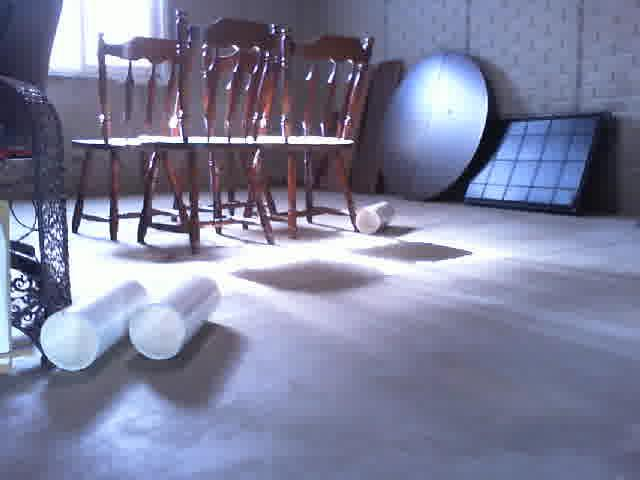coral: (38, 274, 149, 375), (126, 272, 223, 368), (351, 199, 397, 235)
